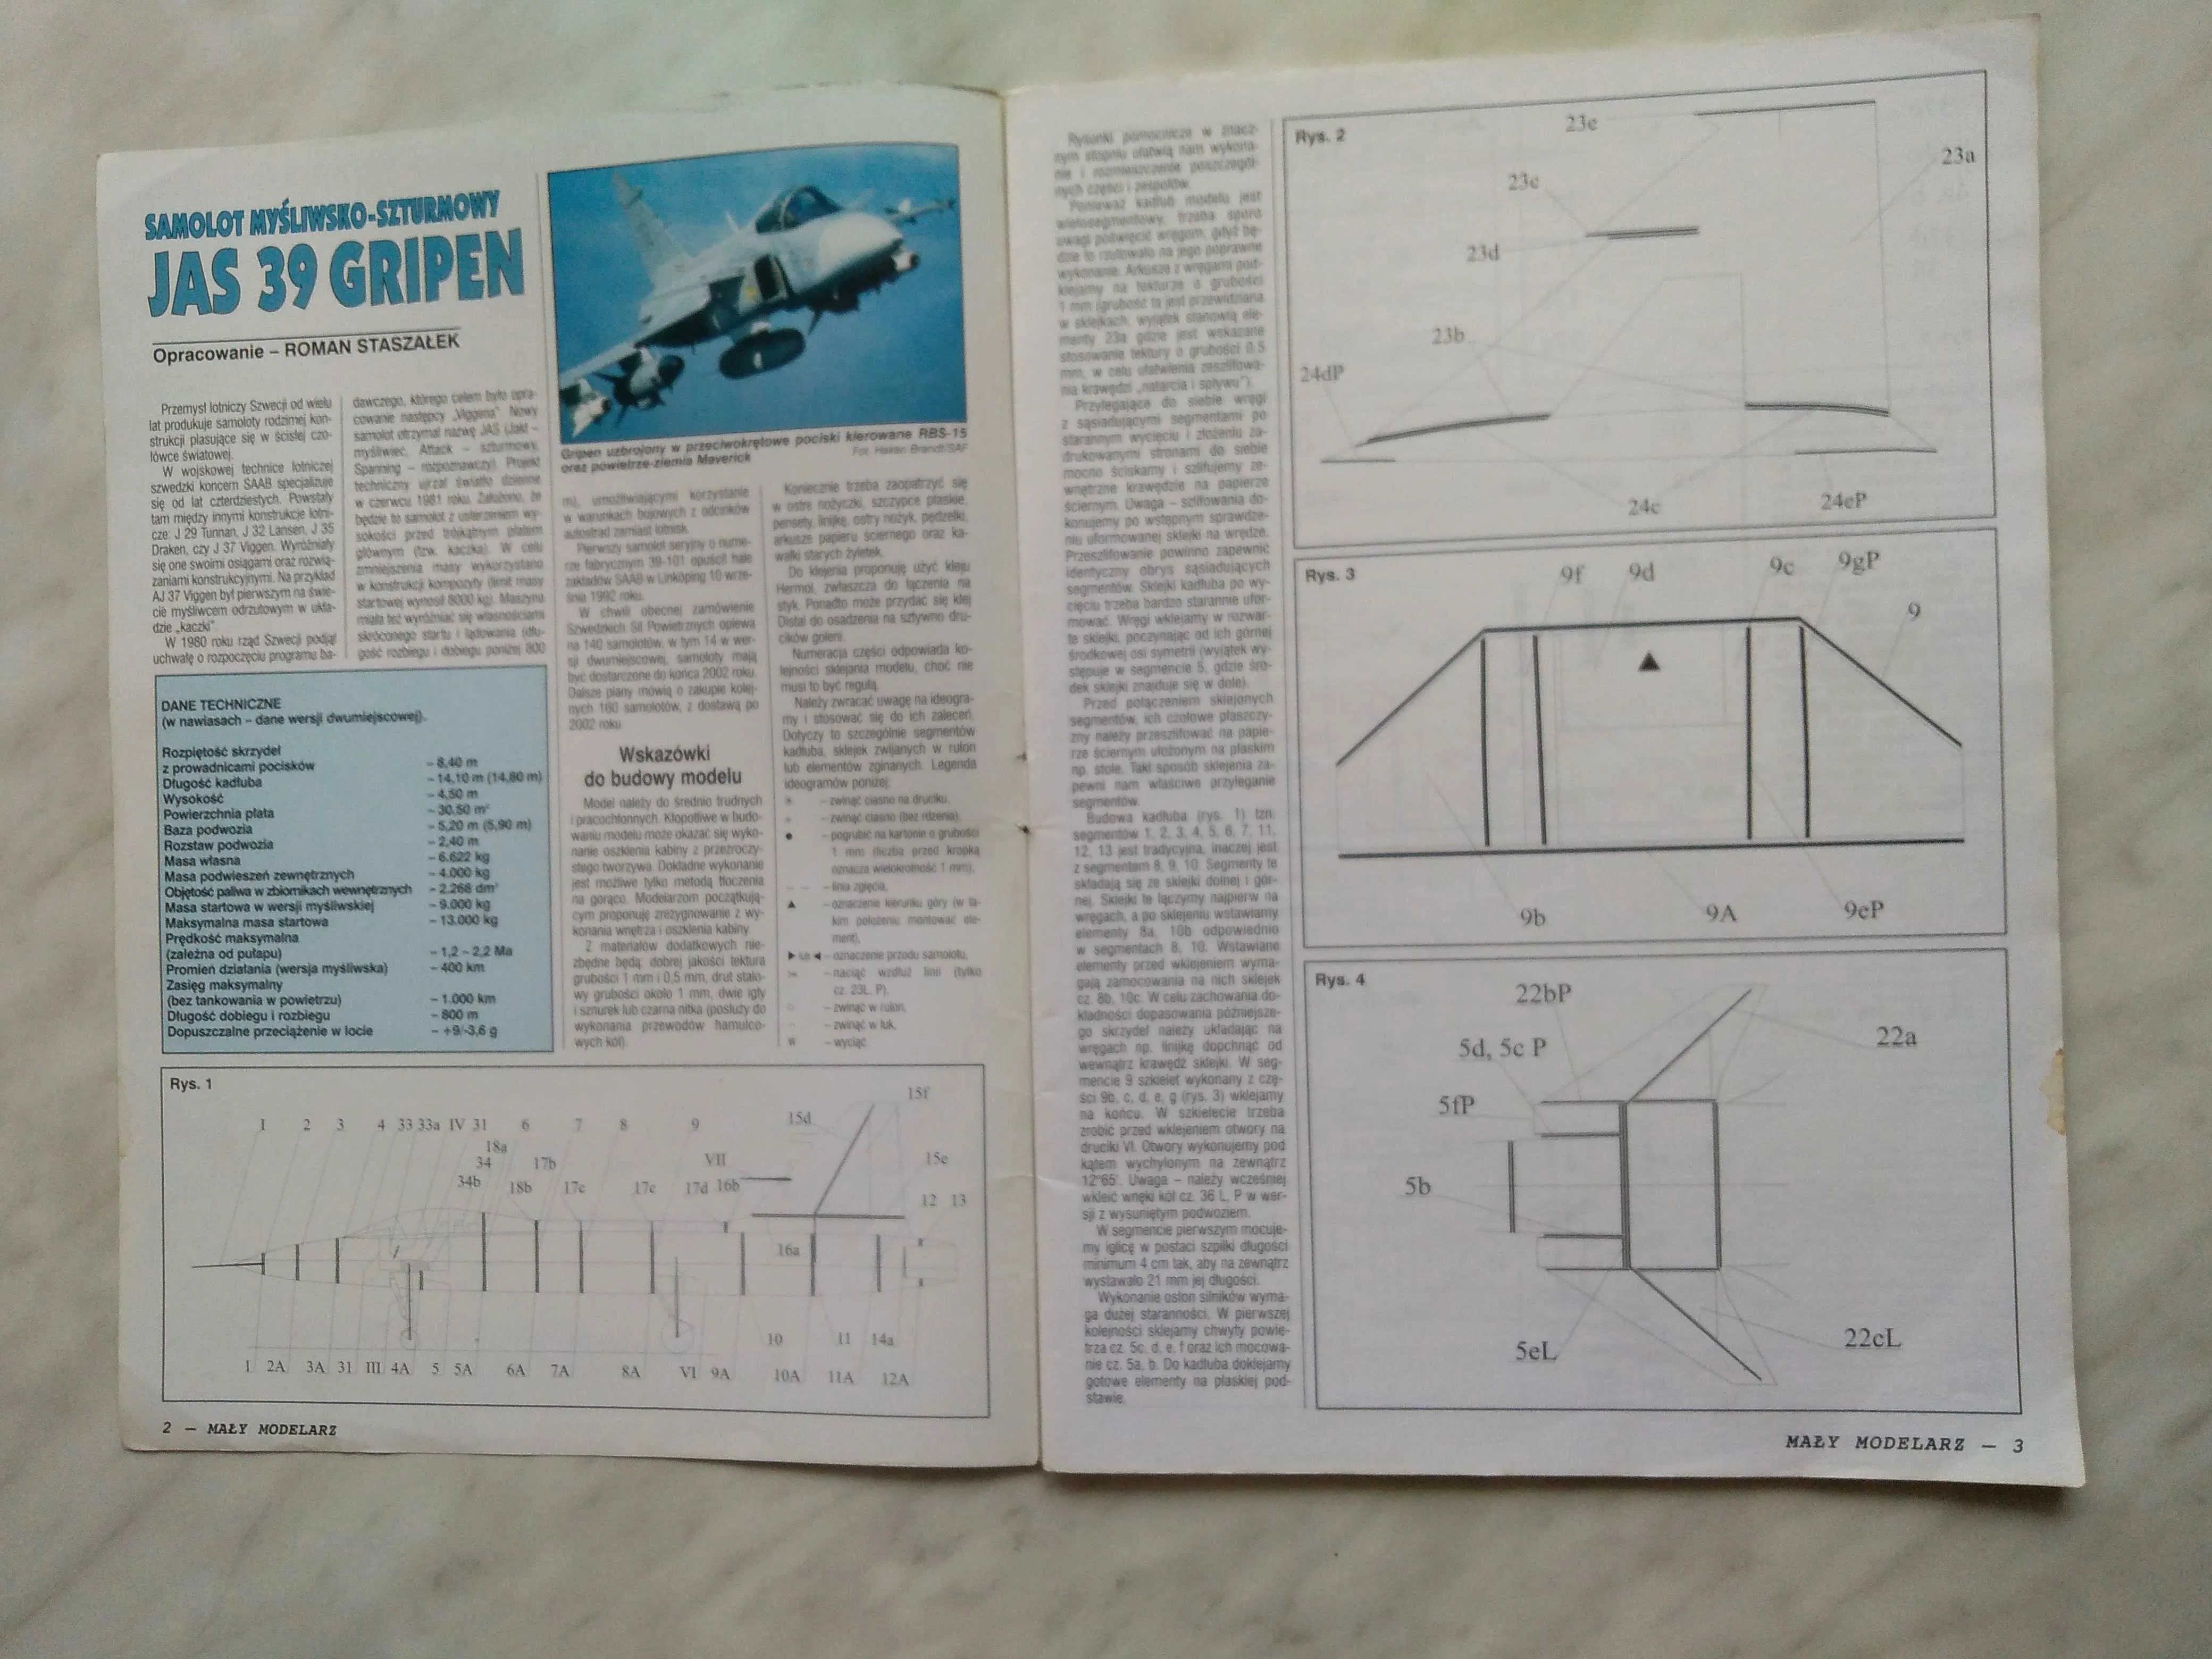JAS39: (559, 173, 956, 437)
